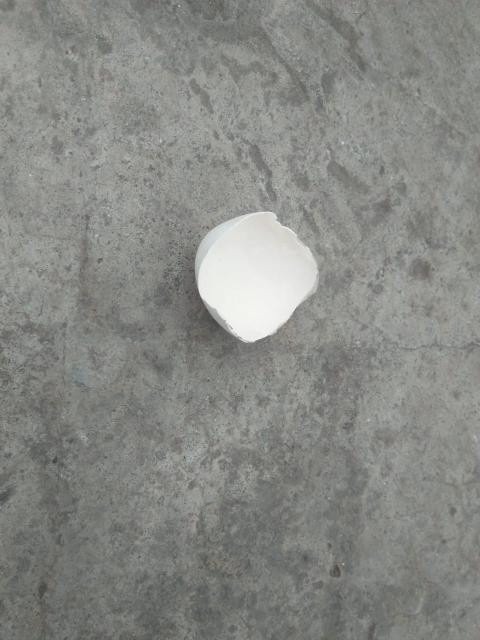Roto: (193, 210, 319, 344)
